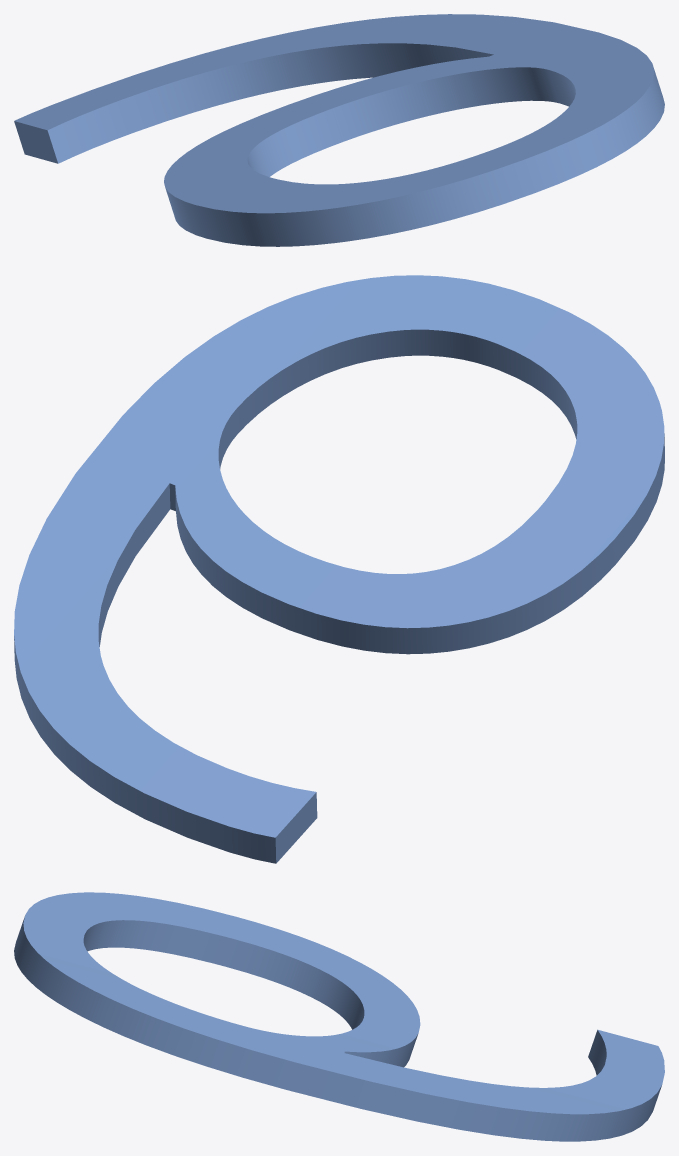
Rendered from New_Number_6.gltf.
The picture shows the model from 3 angles, top to bottom: view 1: azimuth 30°, elevation 25°; view 2: azimuth 150°, elevation 25°; view 3: azimuth 270°, elevation 25°; orthographic projection. The views are drawn at different scales.
Visible parts, largest first — view 1: Part 690; view 2: Part 690; view 3: Part 690.
Boxes of the visible parts, x1=… form: Part 690: x1=14, y1=14, x2=664, y2=246; Part 690: x1=14, y1=275, x2=664, y2=863; Part 690: x1=14, y1=892, x2=664, y2=1141.
Bounding box in the file's own units: 0.00363 × 0.00193 × 0.00554.
